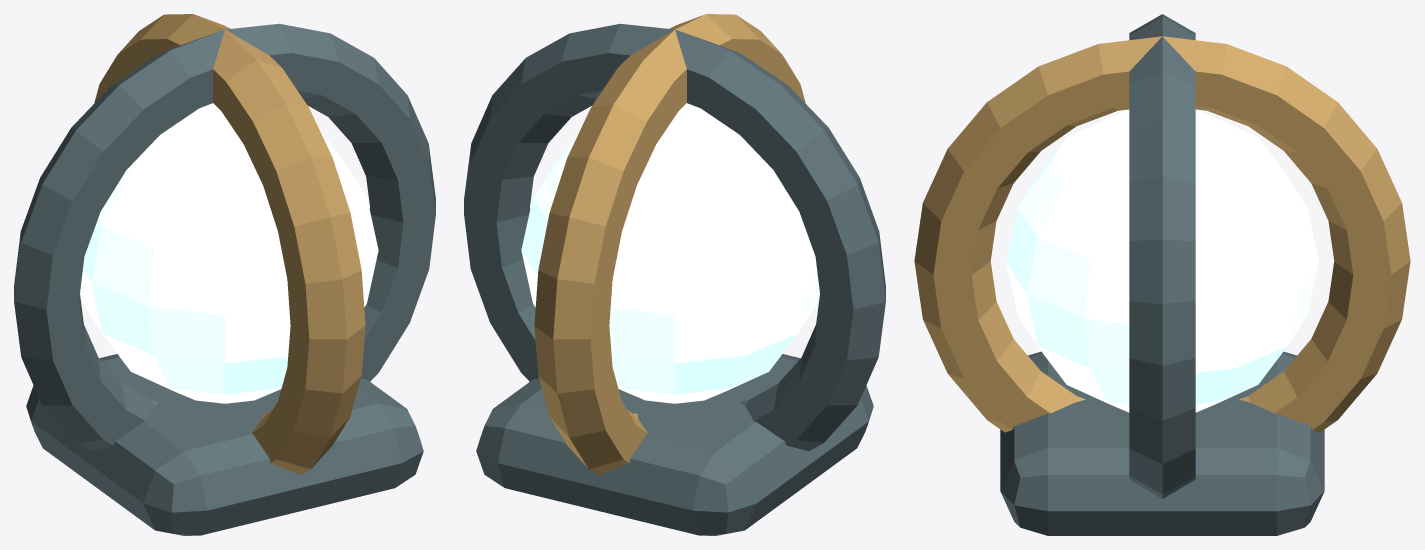
The model's file is core.glb.
3 renders of one model, left to right at view 1: azimuth 30°, elevation 25°; view 2: azimuth 150°, elevation 25°; view 3: azimuth 270°, elevation 25°, orthographic.
Visible parts, largest first — view 1: Containment ring, Energy core, Containment ring 2, Core base; view 2: Containment ring, Energy core, Containment ring 2, Core base; view 3: Containment ring 2, Energy core, Core base, Containment ring.
Boxes of the visible parts, left/top/right/bottom form: Containment ring: left=14, top=23, right=435, bottom=451; Energy core: left=80, top=103, right=378, bottom=403; Containment ring 2: left=94, top=14, right=365, bottom=474; Core base: left=26, top=354, right=423, bottom=535; Containment ring: left=464, top=23, right=885, bottom=451; Energy core: left=521, top=103, right=819, bottom=403; Containment ring 2: left=534, top=14, right=805, bottom=474; Core base: left=476, top=354, right=873, bottom=535; Containment ring 2: left=914, top=36, right=1410, bottom=432; Energy core: left=1006, top=110, right=1318, bottom=412; Core base: left=1000, top=351, right=1324, bottom=535; Containment ring: left=1129, top=14, right=1195, bottom=498.
Bounding box in the file's own units: 0.26 × 0.26 × 0.26.
